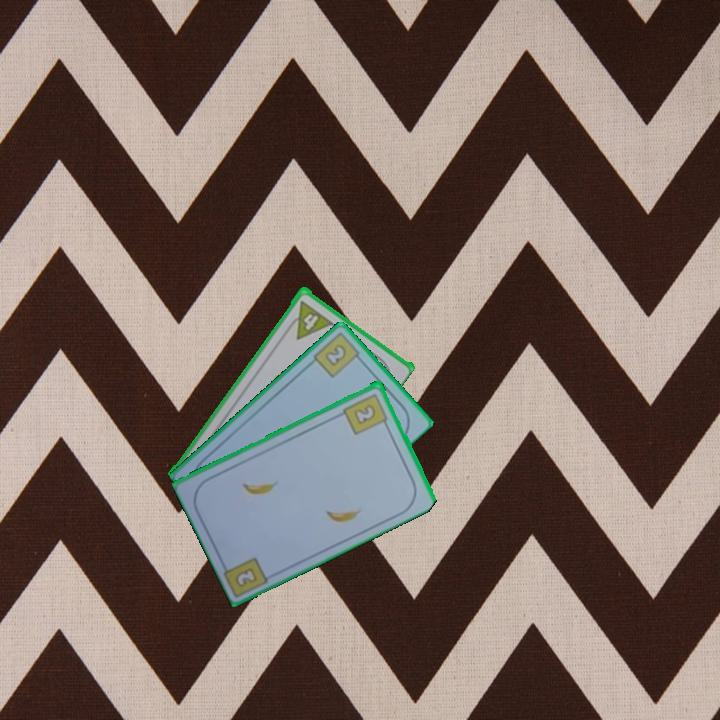2b: (309, 329, 366, 381), (340, 389, 391, 437), (234, 566, 258, 588)
4p: (283, 296, 335, 342)
